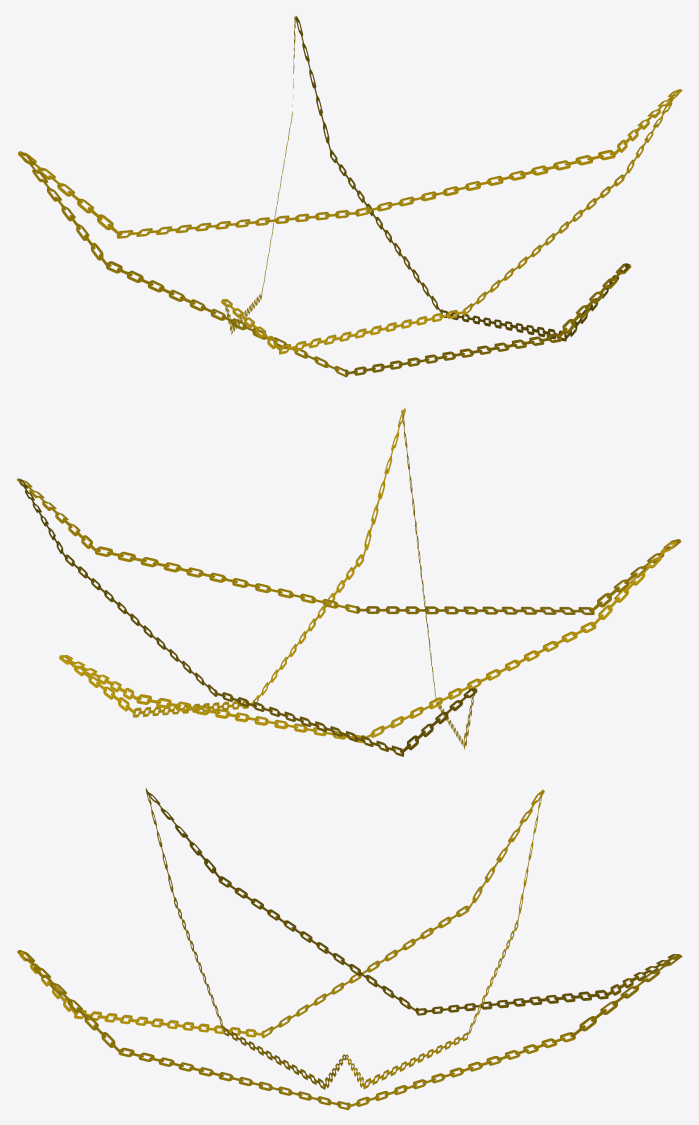
File: ceiling_chains.glb
3 renders of one model, top to bottom at view 1: azimuth 30°, elevation 25°; view 2: azimuth 150°, elevation 25°; view 3: azimuth 270°, elevation 25°, orthographic. The views are drawn at different scales.
Visible parts, largest first — view 1: chains; view 2: chains; view 3: chains.
Boxes of the visible parts, x1,y1,x2,y2 form: chains: [18, 16, 682, 377]; chains: [16, 408, 681, 756]; chains: [17, 788, 682, 1110].
Bounding box in the file's own units: 115 × 33.65 × 121.
1 material, 1 textured.
